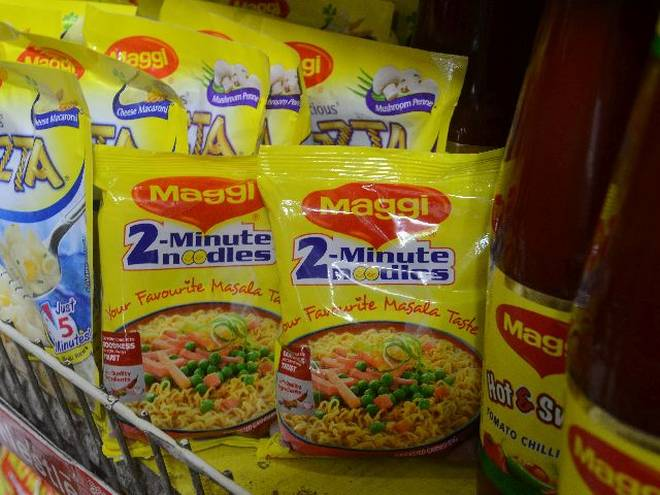maggie: (283, 148, 482, 454), (92, 148, 276, 450)
